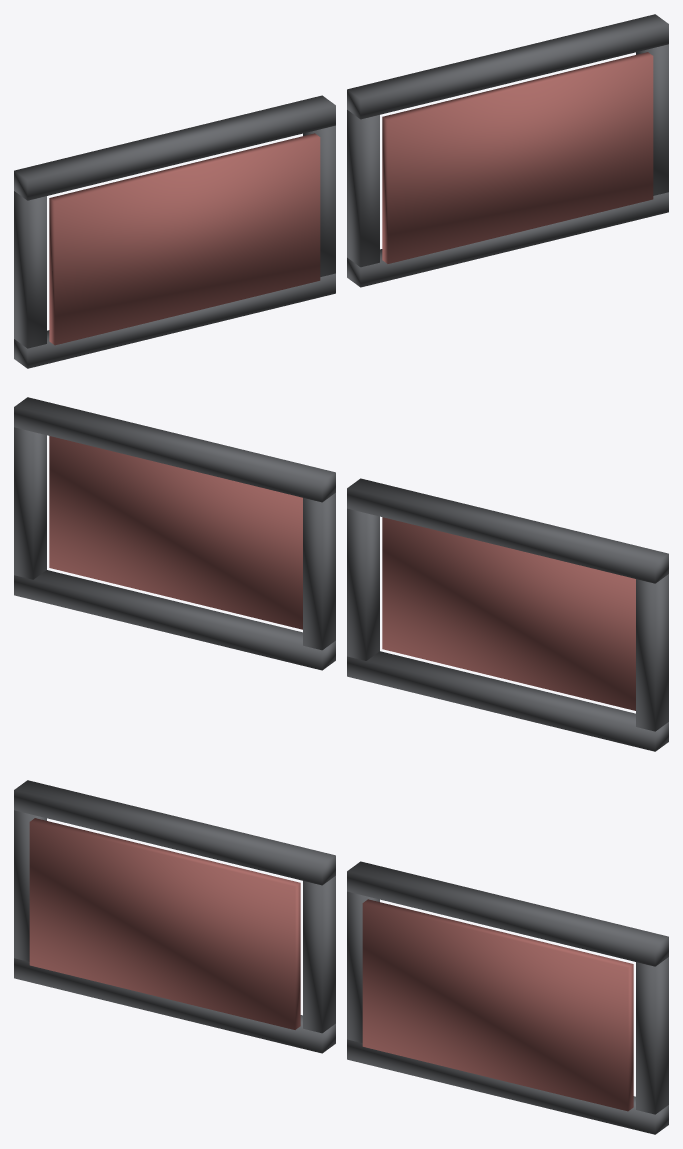
Rendered from on_air_wall_sign__cluster.glb.
3 views of the same model, one above another, from view 1: azimuth 30°, elevation 25°; view 2: azimuth 150°, elevation 25°; view 3: azimuth 330°, elevation 25° (orthographic).
Visible parts, largest first — view 1: world; view 2: world; view 3: world.
Part boxes in pixels (bbox=[...]): world: bbox=[14, 14, 668, 368]; world: bbox=[14, 397, 668, 751]; world: bbox=[14, 780, 668, 1134].
Size of the model in its own units: 1.5 by 0.42 by 0.0785.
